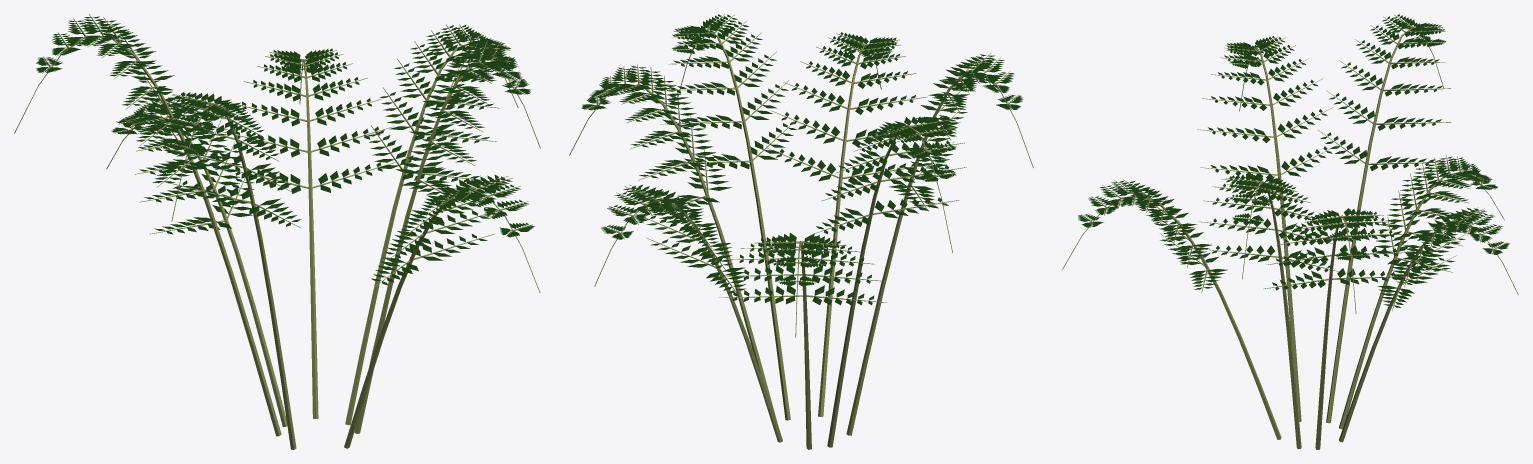
The model's file is Bracken_Clump_01_LOD0.fbx.
The picture shows the model from 3 angles, left to right: view 1: azimuth 30°, elevation 25°; view 2: azimuth 150°, elevation 25°; view 3: azimuth 270°, elevation 25°; orthographic projection. The views are drawn at different scales.
Parts seen in each view (by area): view 1: Bracken_Clump_01_LOD0_Mesh; view 2: Bracken_Clump_01_LOD0_Mesh; view 3: Bracken_Clump_01_LOD0_Mesh.
Part boxes in pixels (x1,y1,x2,y2): Bracken_Clump_01_LOD0_Mesh: (14,14,540,449); Bracken_Clump_01_LOD0_Mesh: (569,14,1033,449); Bracken_Clump_01_LOD0_Mesh: (1062,14,1518,449).
Size of the model in its own units: 119 by 102 by 123.
